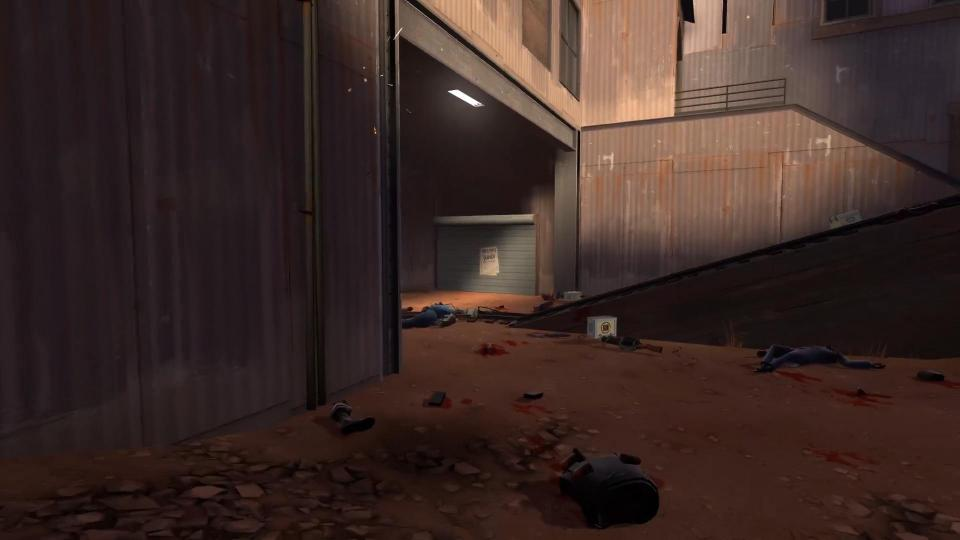Enemy: (752, 344, 887, 373)
